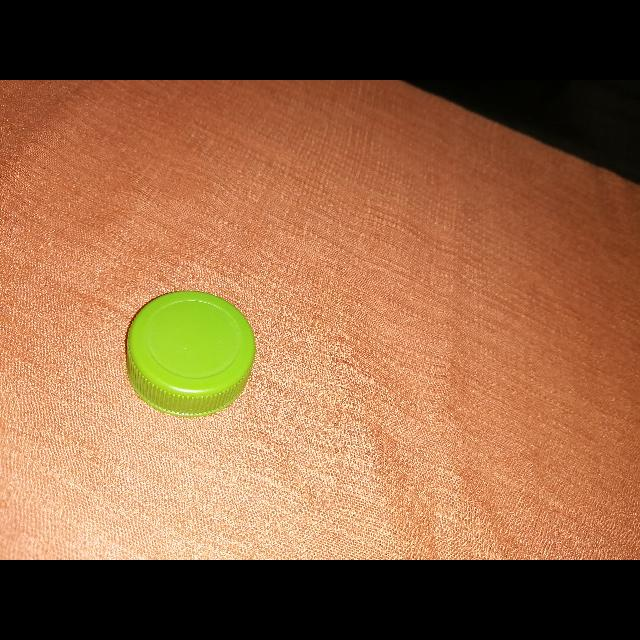plastic_bottle_cap: (126, 289, 256, 416)
